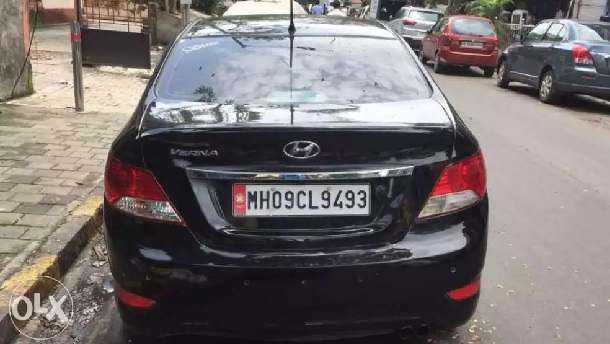licenseplate: (231, 180, 375, 220)
